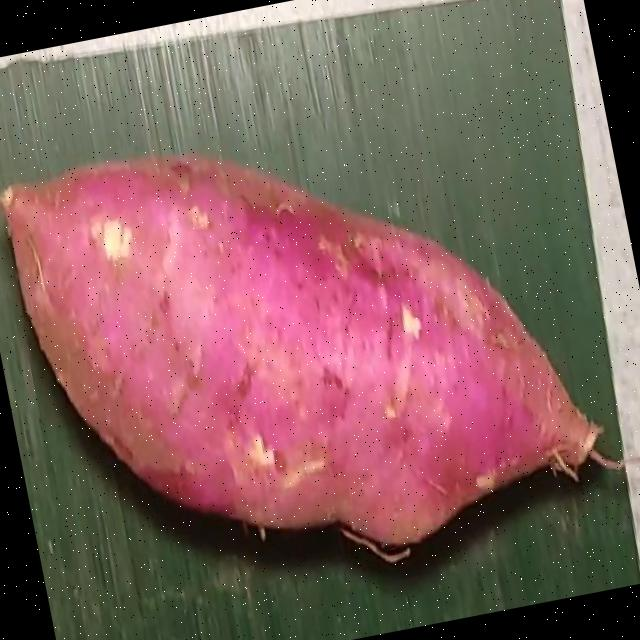Sweet Potato: (0, 151, 604, 561)
